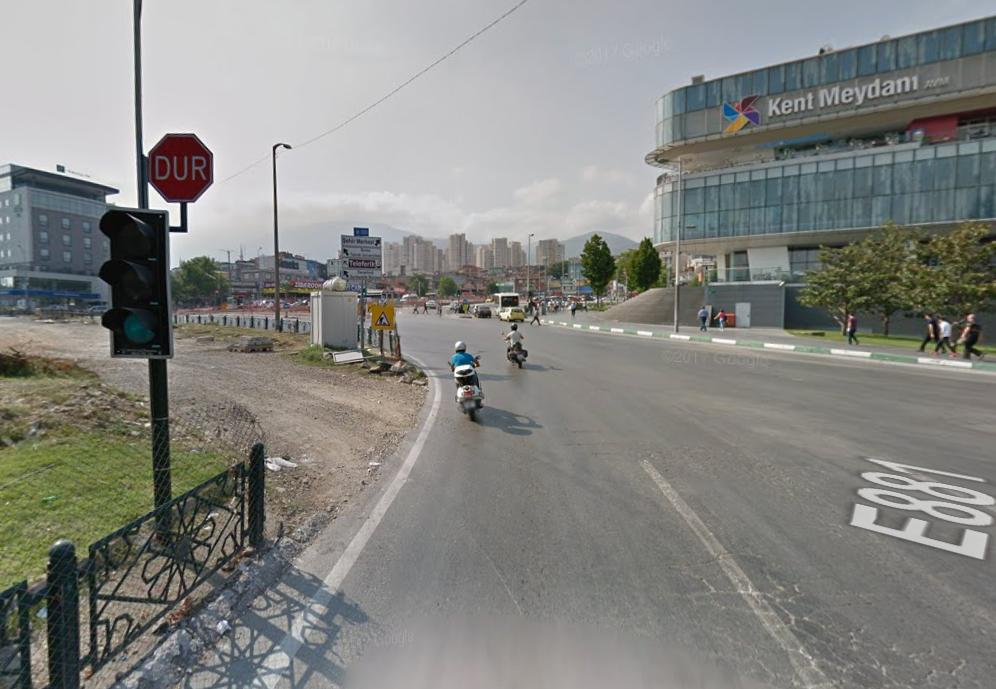greenlight: (100, 204, 175, 356)
stop: (148, 134, 215, 203)
